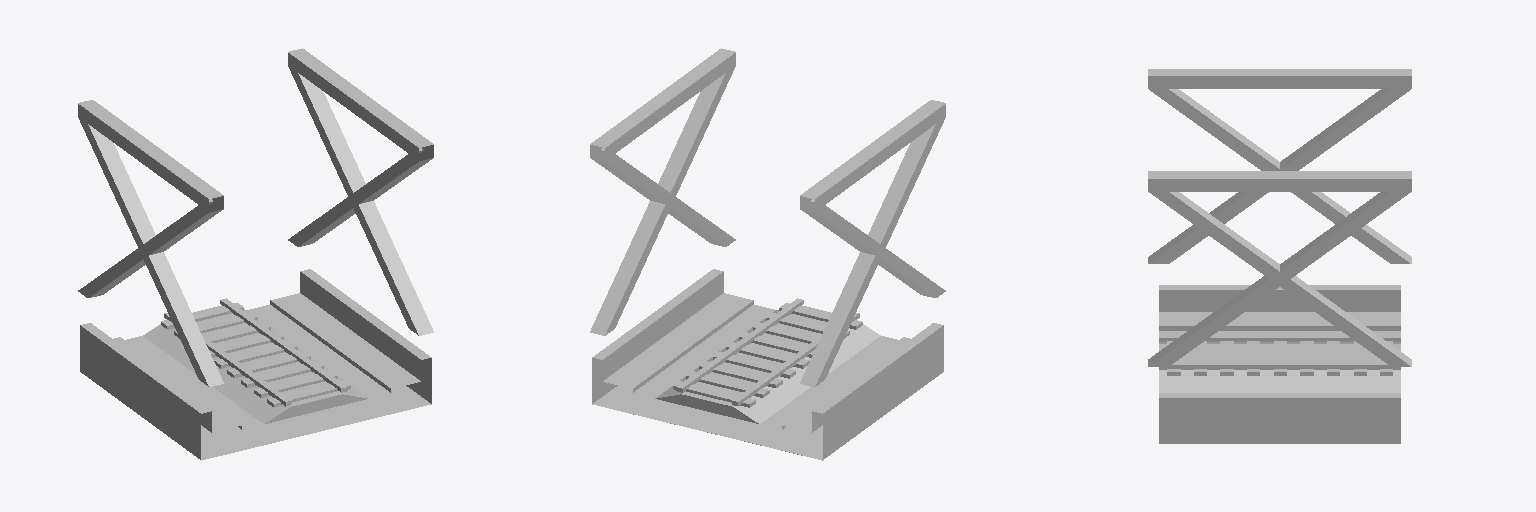
Rendered from SM_Env_Track_Raised_Bridge_Straight_01.obj.
3 views of the same model, side by side, from view 1: azimuth 30°, elevation 25°; view 2: azimuth 150°, elevation 25°; view 3: azimuth 270°, elevation 25° (orthographic).
Parts seen in each view (by area): view 1: SM_Env_Track_Raised_Bridge_Straight_01:Mesh; view 2: SM_Env_Track_Raised_Bridge_Straight_01:Mesh; view 3: SM_Env_Track_Raised_Bridge_Straight_01:Mesh.
Part boxes in pixels (x1,y1,x2,y2): SM_Env_Track_Raised_Bridge_Straight_01:Mesh: (78,48,433,460); SM_Env_Track_Raised_Bridge_Straight_01:Mesh: (590,48,945,460); SM_Env_Track_Raised_Bridge_Straight_01:Mesh: (1148,69,1411,443).
Bounding box in the file's own units: 10.98 × 12.03 × 10.85.